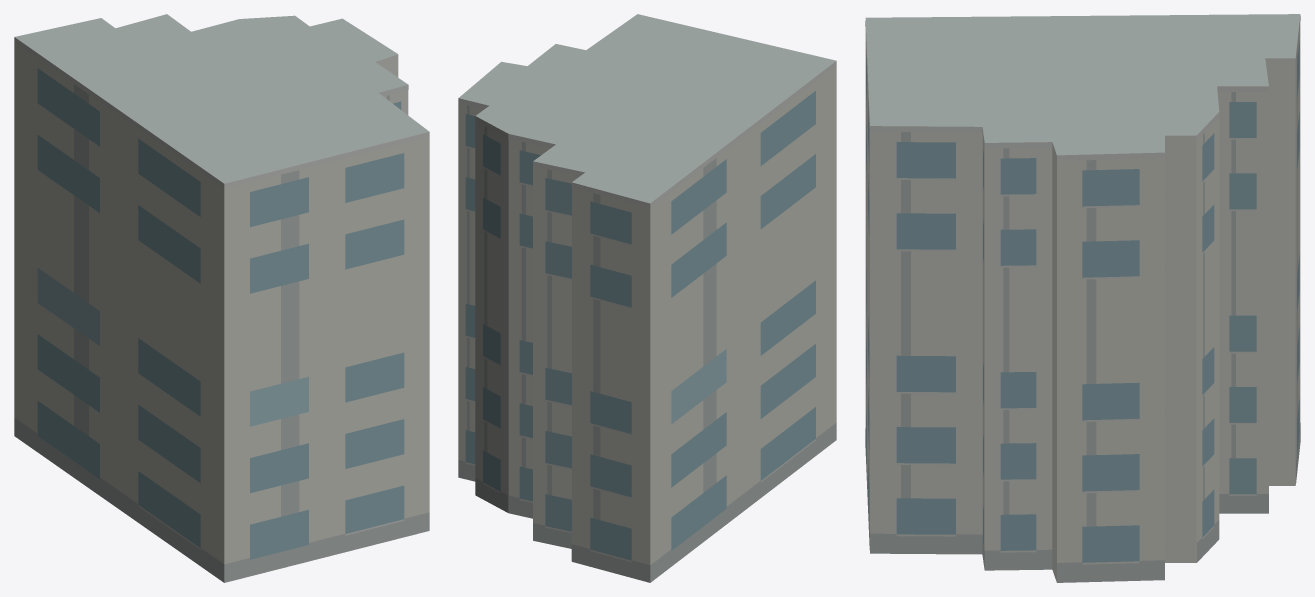
File: survey-upis-33016749.glb
3 renders of one model, left to right at view 1: azimuth 30°, elevation 25°; view 2: azimuth 150°, elevation 25°; view 3: azimuth 270°, elevation 25°, orthographic. The views are drawn at different scales.
Parts seen in each view (by area): view 1: survey-upis-33016749.tmp; view 2: survey-upis-33016749.tmp; view 3: survey-upis-33016749.tmp.
Part boxes in pixels (x1=…): survey-upis-33016749.tmp: x1=14, y1=14, x2=429, y2=582; survey-upis-33016749.tmp: x1=458, y1=14, x2=836, y2=582; survey-upis-33016749.tmp: x1=865, y1=14, x2=1300, y2=582.
Size of the model in its own units: 12.98 by 18.3 by 16.88.
